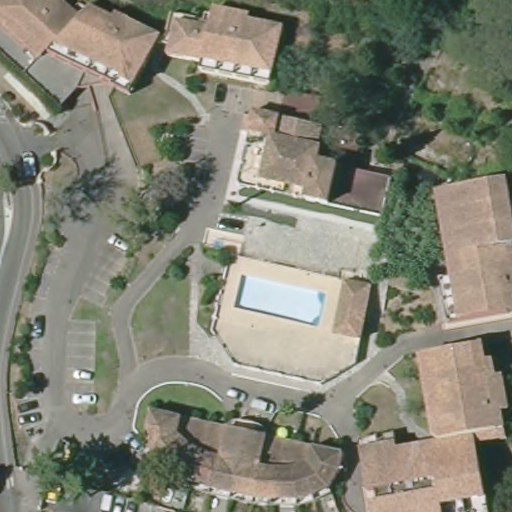pool: (235, 272, 326, 327)
